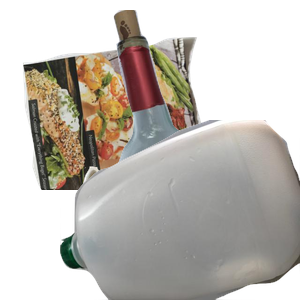glass: (89, 10, 300, 190)
paper: (20, 34, 221, 214)
plastic: (60, 120, 300, 300)
trash: (73, 164, 278, 300)
